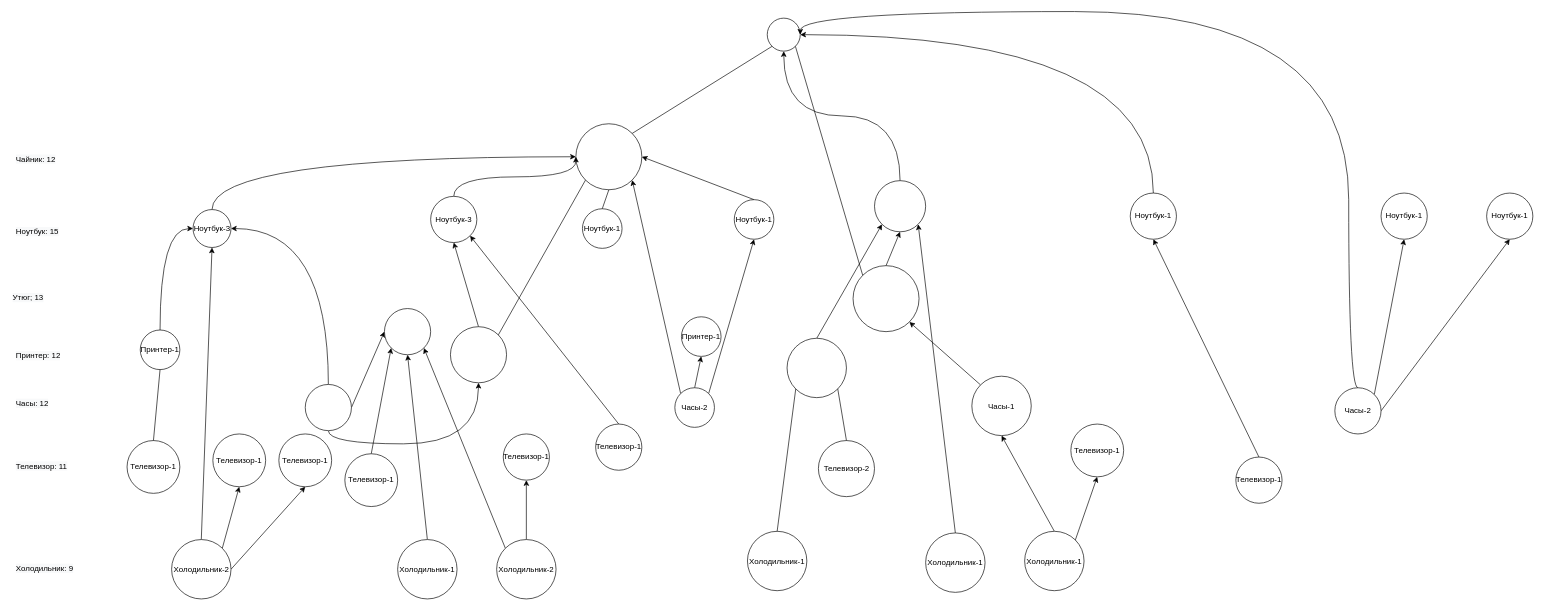
Image size: 1544x611. Some labels were removed from this diagram. The centre of each missing label's shape, as x and y in pixels:
"root" goes at pixel 783 34.
"Ноутбук-2" goes at pixel 900 206.
"Принтер-2" goes at pixel 407 331.
"Принтер-5" goes at pixel 816 368.
"Утюг-4" goes at pixel 885 298.
"Утюг-9" goes at pixel 478 354.
"Чайник-12" goes at pixel 608 156.
"Часы-6" goes at pixel 328 407.
